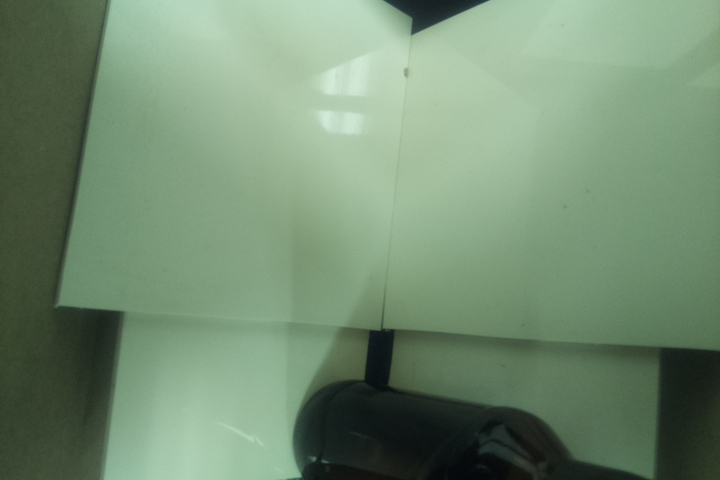makju: (289, 377, 660, 480)
